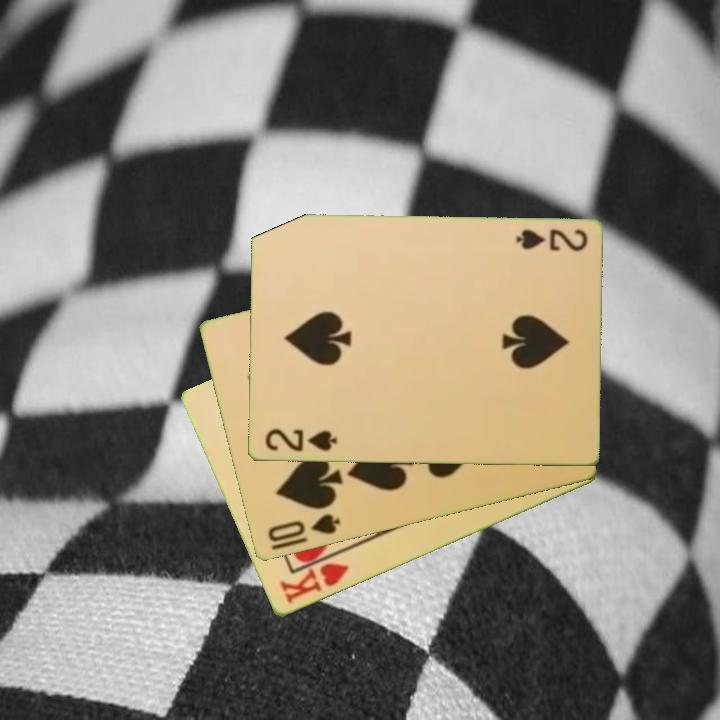10s: (264, 510, 343, 546)
2s: (261, 426, 340, 455), (512, 226, 590, 255)
Kh: (276, 548, 351, 608)
